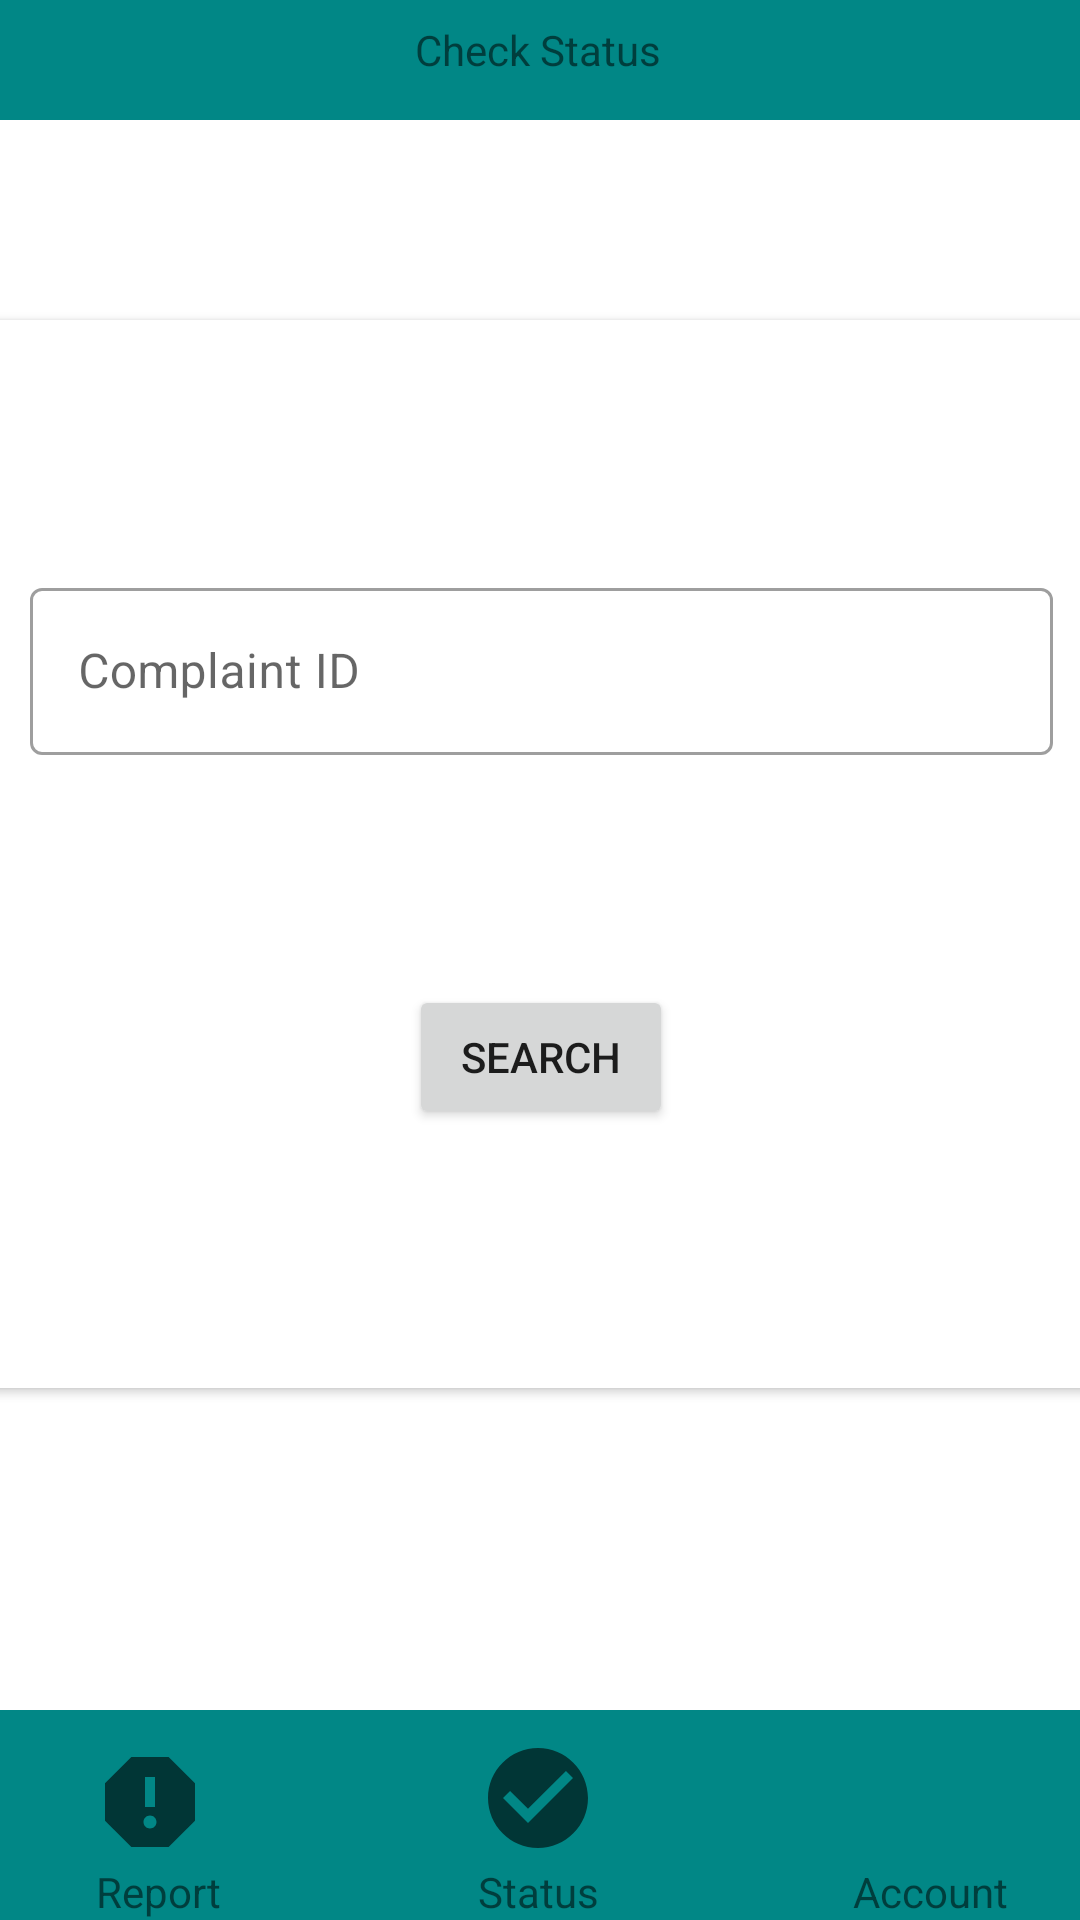

Icon bounding boxes for this 1080px×1920px phone screenshot, format box=[x1, y1, x2, y2]:
check: box=[488, 1748, 588, 1848]
